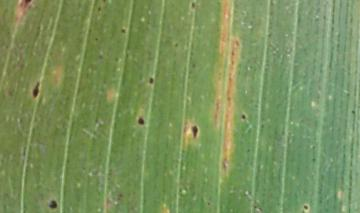tarspot: (31, 81, 44, 100), (191, 125, 201, 139), (137, 116, 148, 128), (48, 198, 59, 209), (301, 204, 313, 211), (147, 76, 156, 85), (240, 112, 247, 121), (190, 1, 197, 10), (118, 28, 127, 34), (350, 109, 356, 114), (97, 7, 102, 12), (94, 37, 99, 41)
